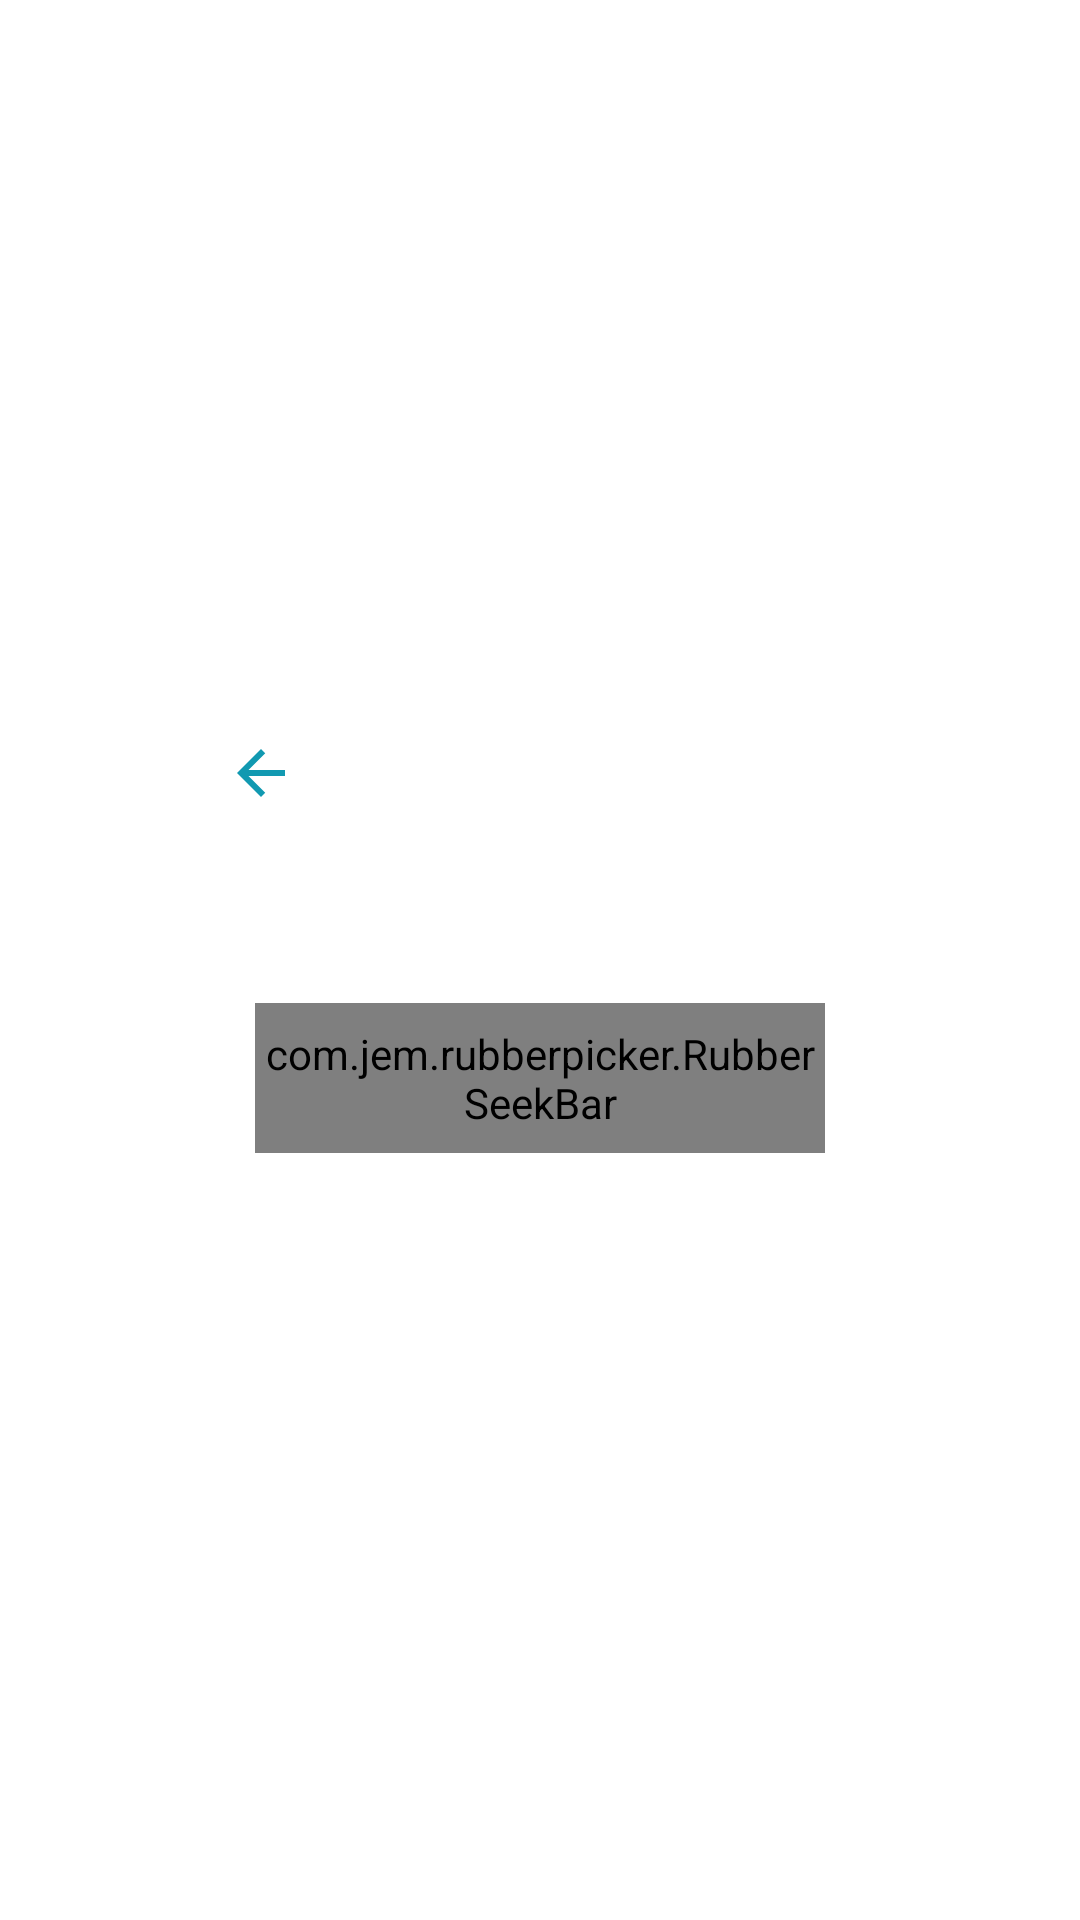

Icon bounding boxes for this 1080 × 1920 phone screenshot, format (x1, y1, x2, y2):
back: (237, 749, 285, 797)
